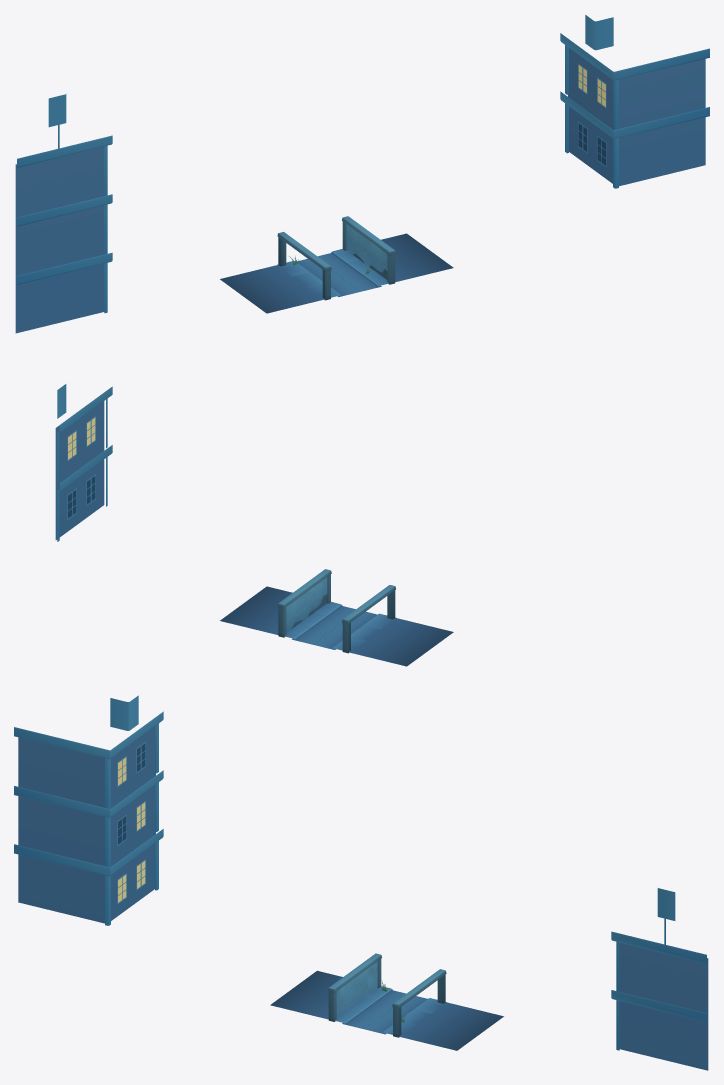
Rendered from UrbanPlasterWalls01.prefab.glb.
3 views of the same model, one above another, from view 1: azimuth 30°, elevation 25°; view 2: azimuth 150°, elevation 25°; view 3: azimuth 330°, elevation 25° (orthographic).
Parts seen in each view (by area): view 1: FarBackBuilding01, UrbanPlasterWalls01, PlasteredWall02, PlasteredWall01; view 2: UrbanPlasterWalls01, FarBackBuilding01, PlasteredWall02, PlasteredWall01; view 3: FarBackBuilding01, UrbanPlasterWalls01, PlasteredWall01, PlasteredWall02.
Part boxes in pixels (x1,y1,x2,y2): FarBackBuilding01: (15, 15, 709, 333); UrbanPlasterWalls01: (220, 233, 453, 313); PlasteredWall02: (342, 216, 396, 284); PlasteredWall01: (277, 232, 331, 300); UrbanPlasterWalls01: (220, 586, 453, 666); FarBackBuilding01: (55, 384, 112, 541); PlasteredWall02: (277, 569, 331, 637); PlasteredWall01: (342, 585, 395, 653); FarBackBuilding01: (14, 695, 708, 1070); UrbanPlasterWalls01: (270, 970, 503, 1050); PlasteredWall01: (327, 953, 381, 1021); PlasteredWall02: (392, 969, 446, 1037).
Bounding box in the file's own units: 76.34 × 26.74 × 10.17.
3 materials, 2 textured.
